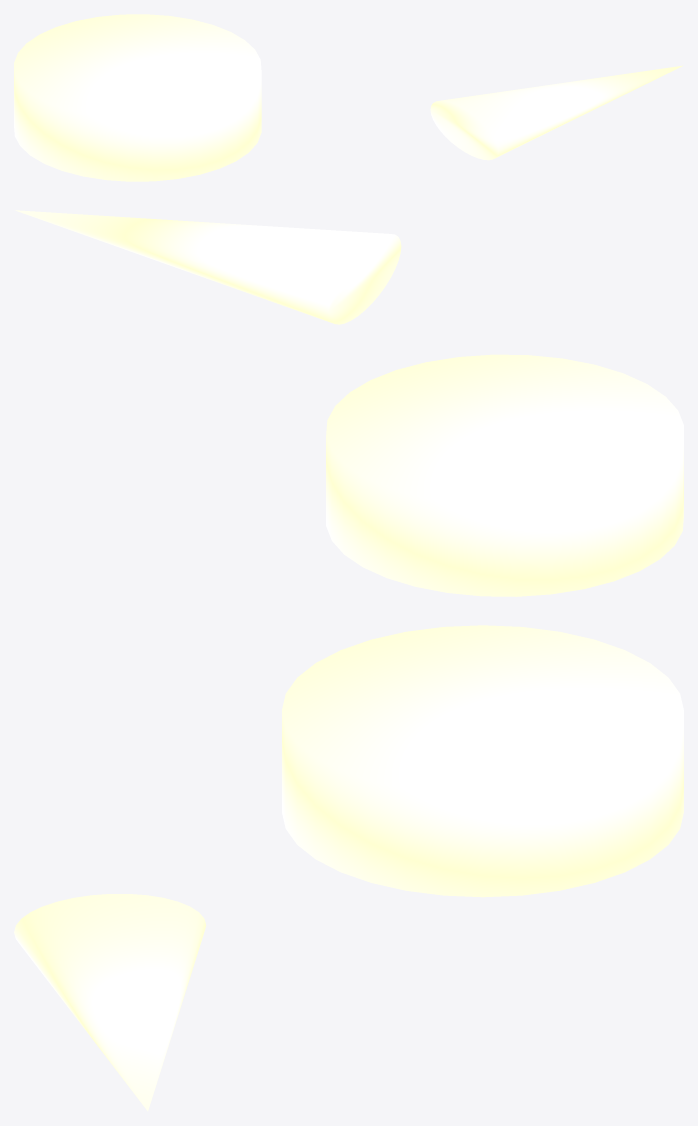
The model's file is AstraChakra.fbx.
3 renders of one model, top to bottom at view 1: azimuth 30°, elevation 25°; view 2: azimuth 150°, elevation 25°; view 3: azimuth 270°, elevation 25°, orthographic. The views are drawn at different scales.
Visible parts, largest first — view 1: AstraChakra; view 2: AstraChakra; view 3: AstraChakra.
Part boxes in pixels (box(x1,y1,x2,y2)): AstraChakra: box(14, 14, 682, 181); AstraChakra: box(15, 210, 683, 596); AstraChakra: box(14, 625, 683, 1111).
Size of the model in its own units: 1.28 by 0.14 by 0.8331.
